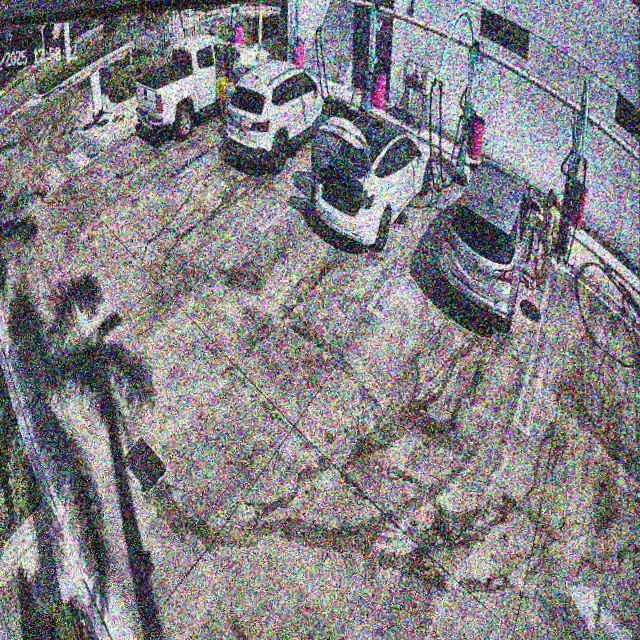Car: (309, 102, 433, 259), (434, 155, 541, 336), (215, 53, 335, 179)
